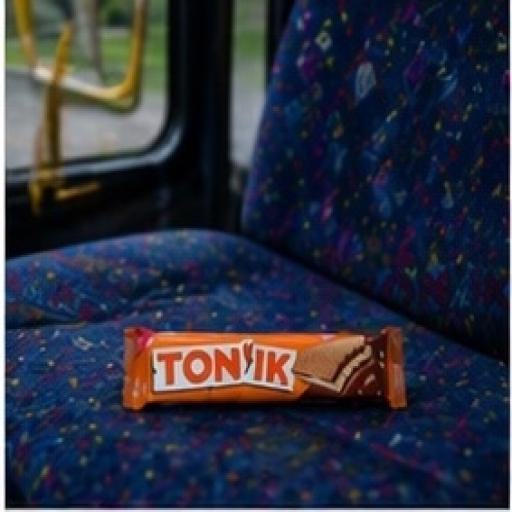tonik: (58, 245, 436, 461)
